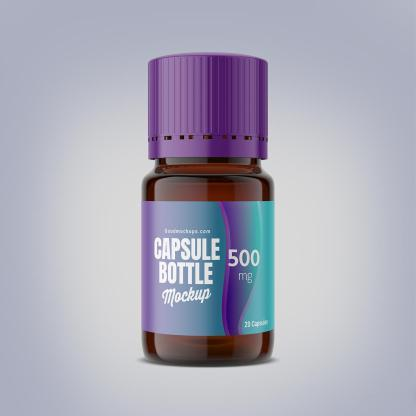jar: (142, 54, 274, 363)
